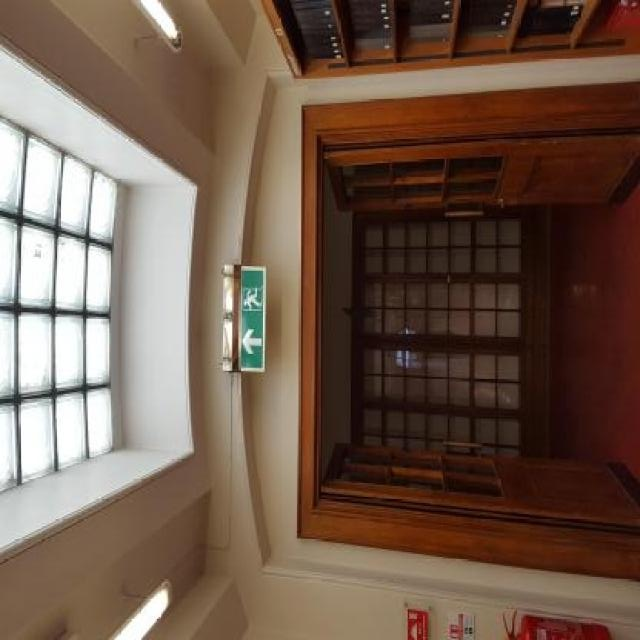fire extinguisher: (502, 610, 613, 638)
